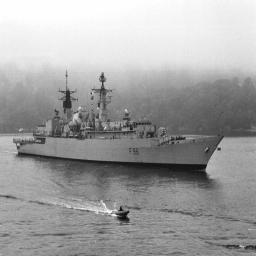Fragata: (15, 68, 228, 173)
